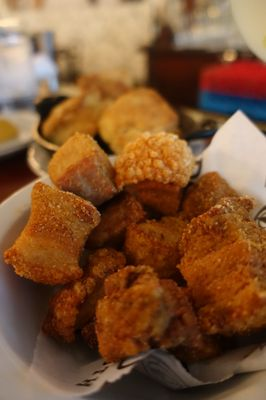salad: (124, 216, 187, 275)
